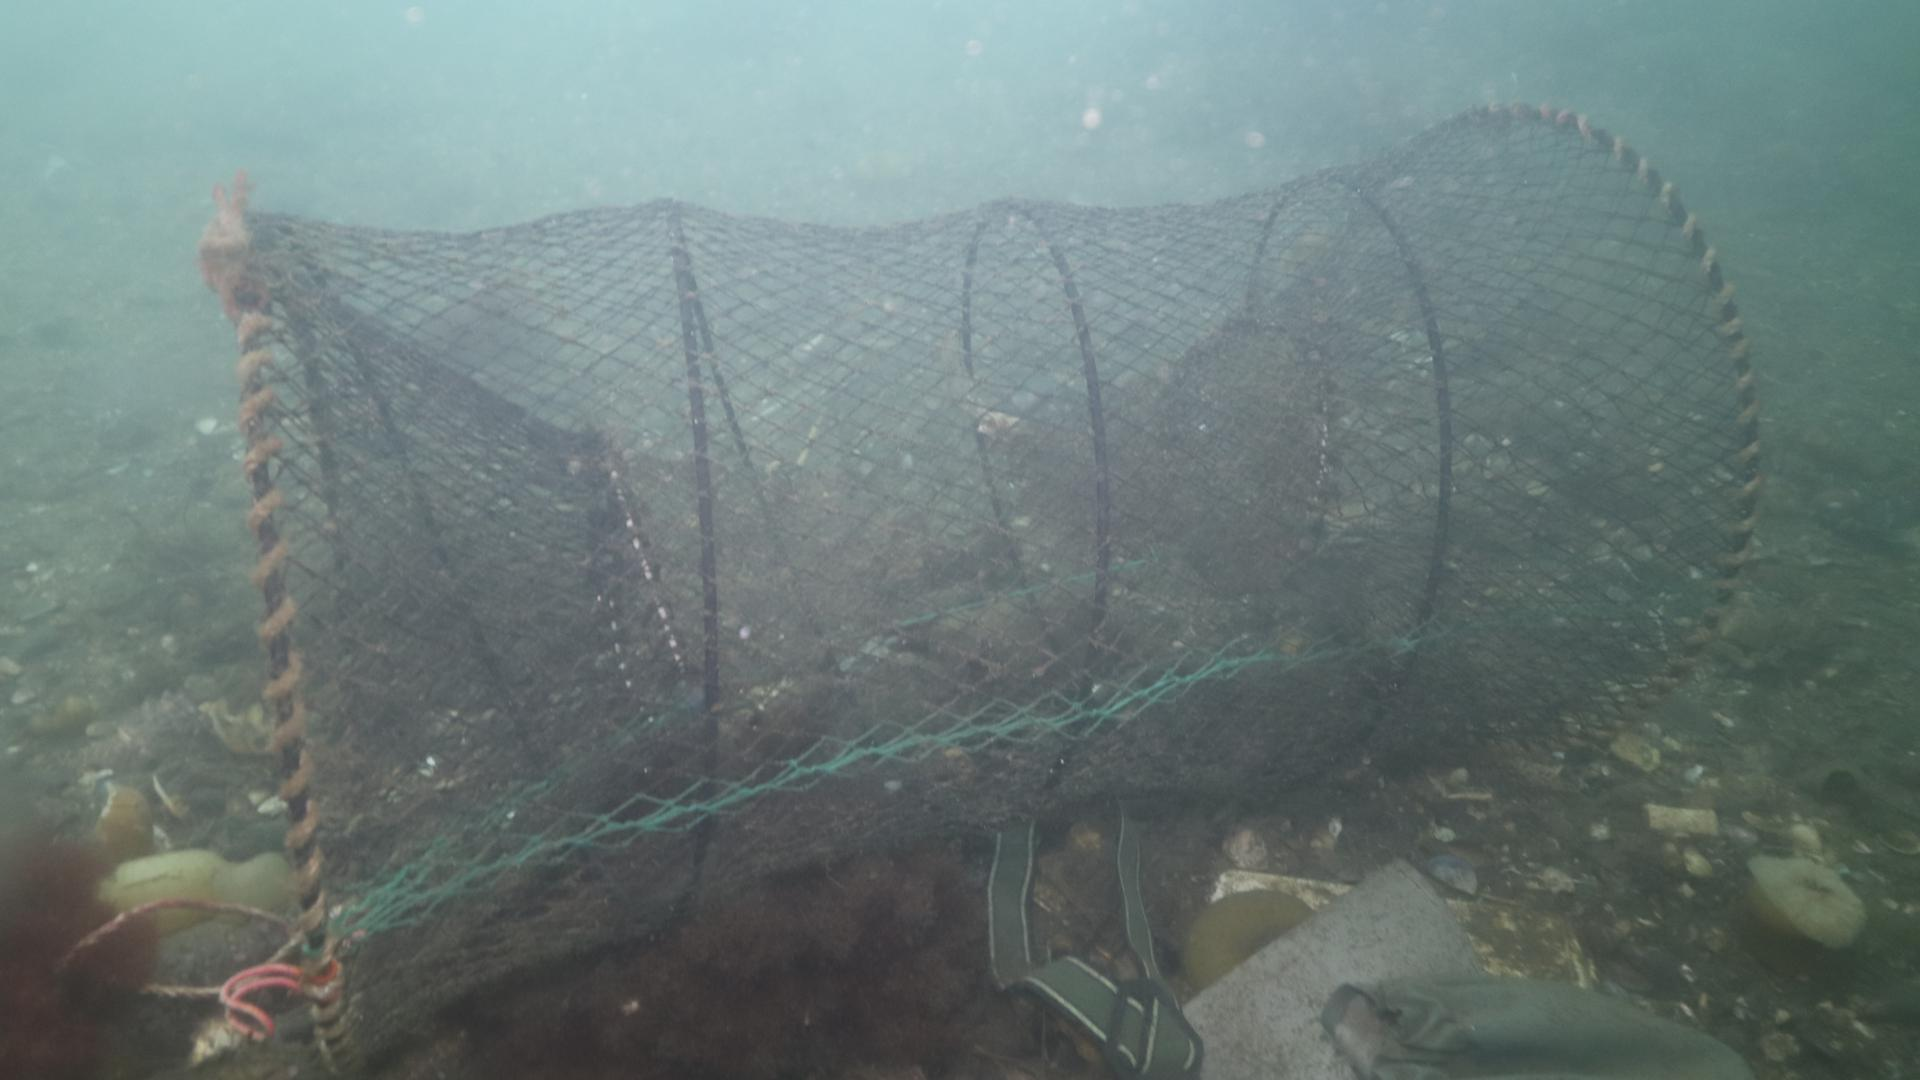spring fish trap: (227, 98, 1762, 1080)
